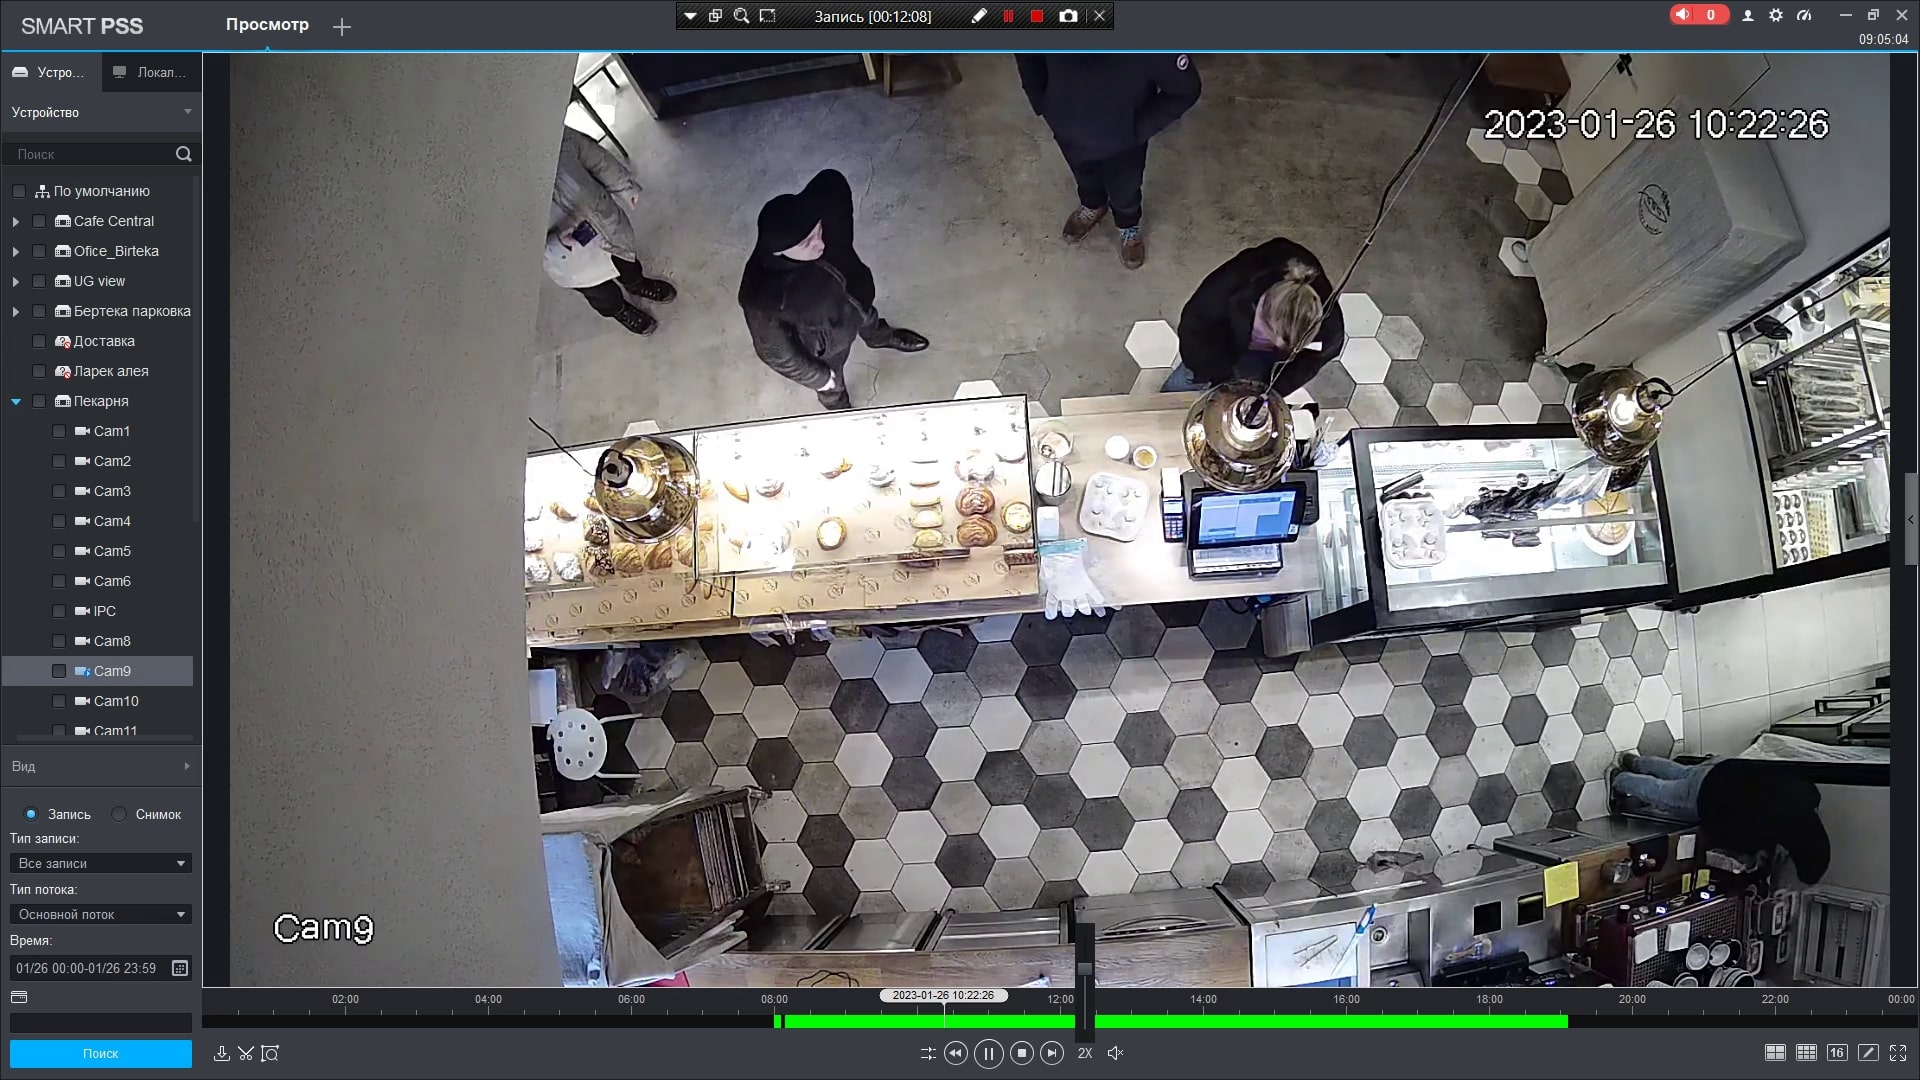barcounter: (534, 432, 1700, 625)
coffee: (1134, 441, 1161, 472), (1105, 431, 1132, 455)
person: (729, 189, 922, 402), (1174, 243, 1343, 385)
